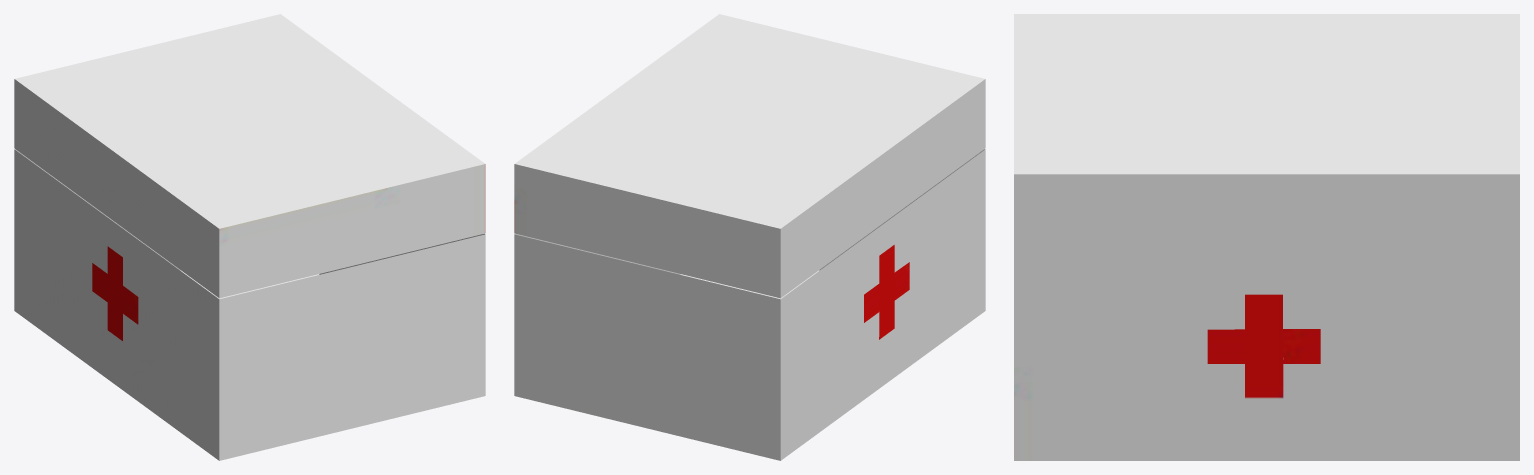
File: resque.fbx
3 views of the same model, side by side, from view 1: azimuth 30°, elevation 25°; view 2: azimuth 150°, elevation 25°; view 3: azimuth 270°, elevation 25° (orthographic). The views are drawn at different scales.
Parts seen in each view (by area): view 1: resque; view 2: resque; view 3: resque.
Part boxes in pixels (<box>): resque: <box>14,14,485,460</box>; resque: <box>514,14,985,460</box>; resque: <box>1014,14,1519,460</box>.
Size of the model in its own units: 30.53 by 25 by 40.
Materials: 1 (1 with a texture image).
